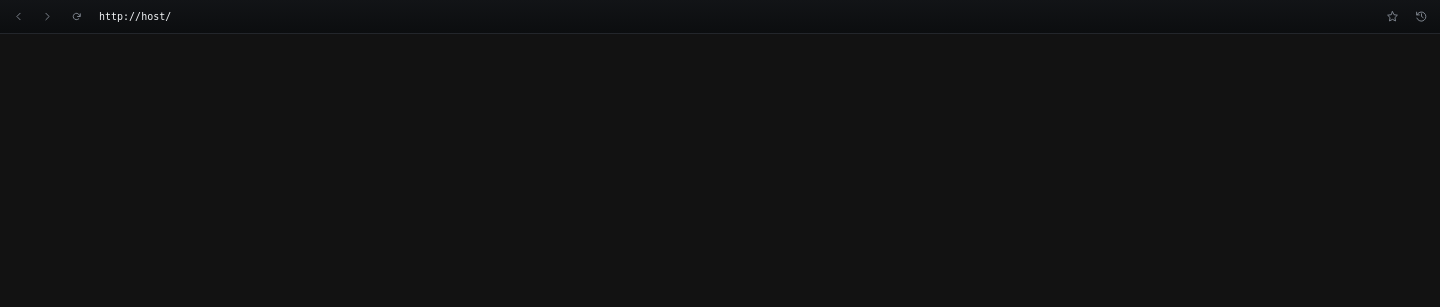
Scenario: shows only the five most recent visits and opens a selected URL without losing the click to blur
Focus the dropdown at (734, 16), box left=94, top=4, right=1375, bottom=29
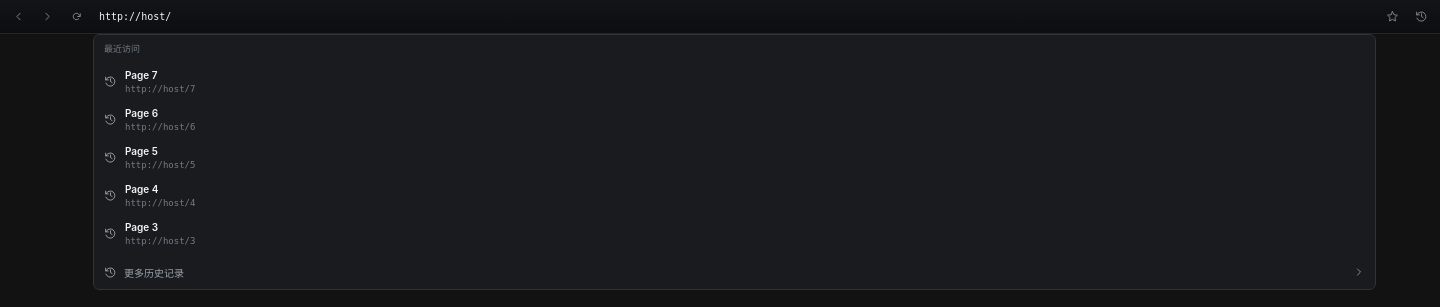
Expected: the number of options is 6
Expected: the option "Page 7 http://host/7" is shown
Press the mouse on the option "Page 7 http://host/7" at (141, 74), box left=97, top=62, right=1372, bottom=100
Click the option "Page 7 http://host/7" at (141, 74), box left=97, top=62, right=1372, bottom=100
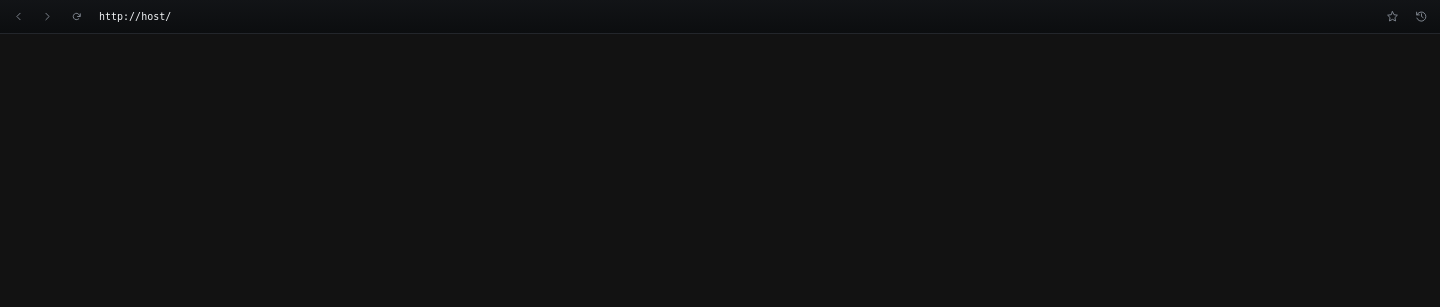
Expected: the list is gone
